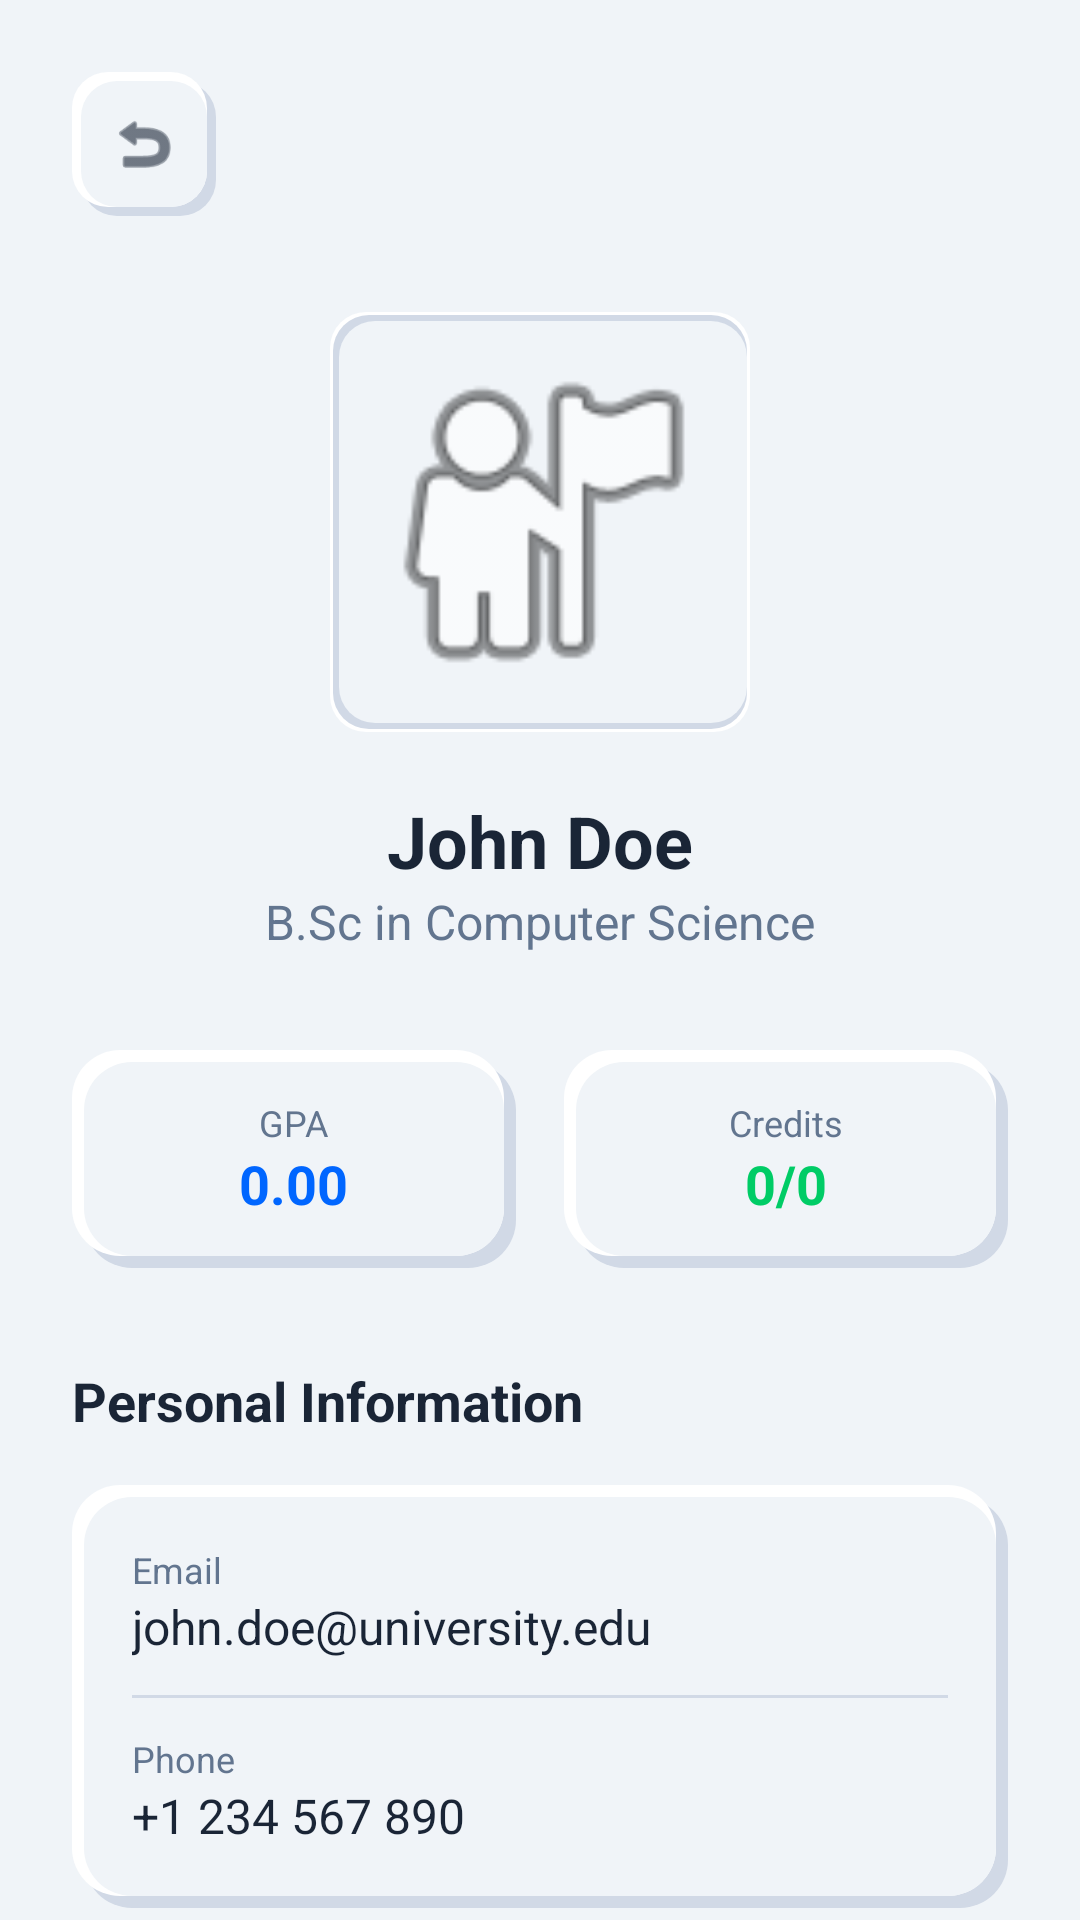

Icons on this 1080x1920 Android screen, each with the point to tap as (x,y):
revert: (145,144)
